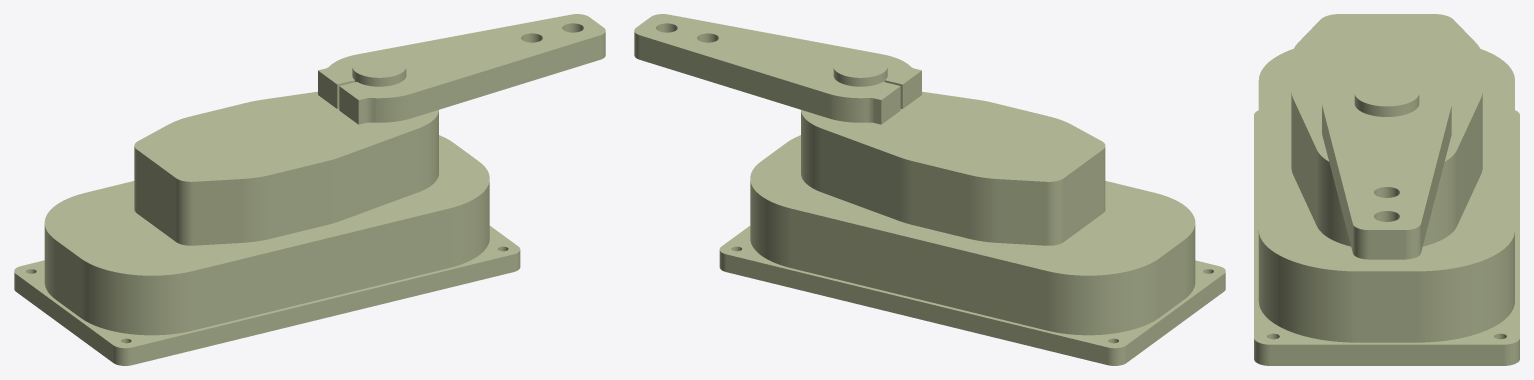
Rendered from CONTROL__ELECTRONIC CONTROL__autopilot DD1.glb.
The picture shows the model from 3 angles, left to right: view 1: azimuth 30°, elevation 25°; view 2: azimuth 150°, elevation 25°; view 3: azimuth 270°, elevation 25°; orthographic projection. The views are drawn at different scales.
Parts seen in each view (by area): view 1: autopilot DD1; view 2: autopilot DD1; view 3: autopilot DD1.
Boxes of the visible parts, box(x1,y1,x2,y2) form: autopilot DD1: box(14, 14, 605, 365); autopilot DD1: box(634, 14, 1225, 365); autopilot DD1: box(1254, 14, 1519, 365).
Size of the model in its own units: 0.453 by 0.15 by 0.164.
